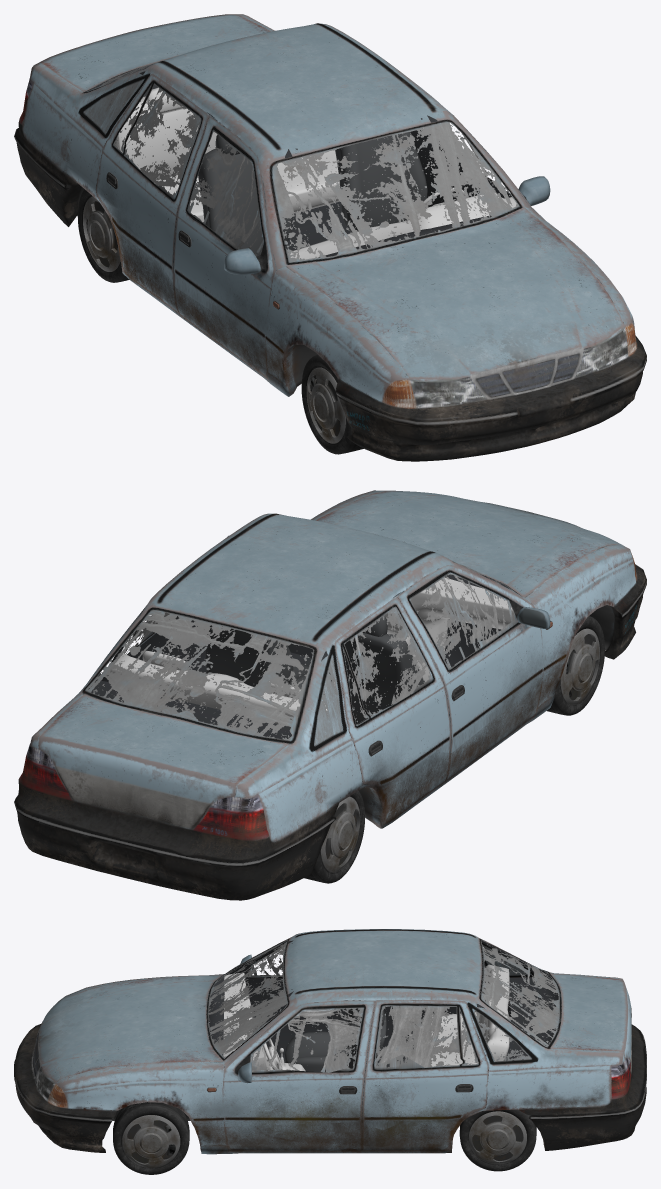
Rendered from NEXIA DONE.fbx.
The picture shows the model from 3 angles, top to bottom: view 1: azimuth 30°, elevation 25°; view 2: azimuth 150°, elevation 25°; view 3: azimuth 270°, elevation 25°; orthographic projection. The views are drawn at different scales.
Parts seen in each view (by area): view 1: Plane, Cube.001, Cube.006, Plane.004, Cube.012, Plane.001, Cube.009, Cylinder.011, Cylinder.013, Cylinder.010, Cylinder.012; view 2: Plane, Plane.004, Cube.006, Plane.001, Cube.001, Cube.012, Cylinder.011, Cylinder.013, Cylinder.010, Cylinder.012; view 3: Plane, Plane.004, Cylinder.009, Cylinder.007, Cylinder.006, Cylinder.003, Cube.004, Cube.012, Plane.001, Cube.009.
Part boxes in pixels (x1,y1,x2,y2): Plane: [14, 14, 646, 461]; Cube.001: [335, 132, 427, 232]; Cube.006: [198, 148, 291, 256]; Plane.004: [90, 64, 509, 257]; Cube.012: [114, 96, 217, 180]; Plane.001: [288, 193, 516, 259]; Cube.009: [154, 150, 339, 222]; Cylinder.011: [306, 367, 345, 443]; Cylinder.013: [83, 196, 120, 271]; Cylinder.010: [301, 354, 363, 454]; Cylinder.012: [77, 189, 129, 282]; Plane: [14, 490, 646, 900]; Plane.004: [88, 574, 510, 739]; Cube.006: [344, 633, 424, 724]; Plane.001: [332, 577, 514, 688]; Cube.001: [204, 625, 293, 686]; Cube.012: [110, 653, 327, 724]; Cylinder.011: [560, 628, 599, 704]; Cylinder.013: [320, 796, 360, 872]; Cylinder.010: [547, 616, 604, 715]; Cylinder.012: [304, 791, 364, 883]; Plane: [14, 929, 646, 1154]; Plane.004: [208, 940, 558, 1067]; Cylinder.009: [469, 1111, 526, 1164]; Cylinder.007: [122, 1115, 180, 1167]; Cylinder.006: [113, 1102, 189, 1174]; Cylinder.003: [459, 1109, 536, 1171]; Cube.004: [285, 1031, 347, 1072]; Cube.012: [474, 964, 509, 1063]; Plane.001: [223, 973, 305, 1071]; Cube.009: [413, 1012, 477, 1066].
Bounding box in the file's own units: 259 × 176 × 584.
